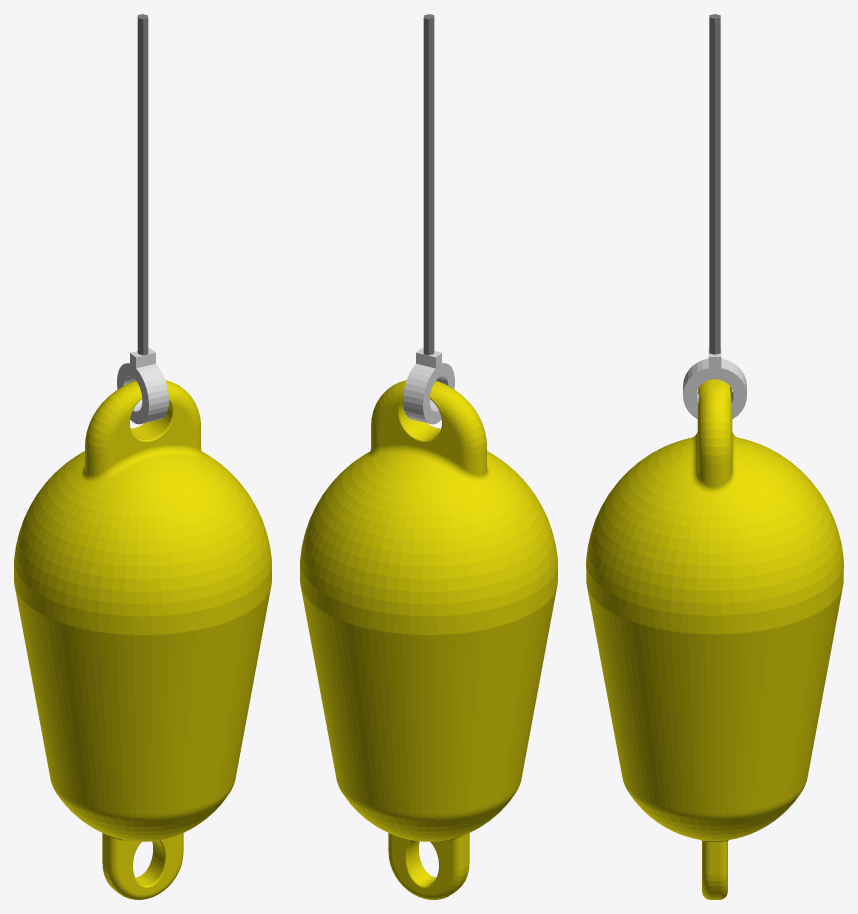
The picture shows the model from 3 angles, left to right: view 1: azimuth 30°, elevation 25°; view 2: azimuth 150°, elevation 25°; view 3: azimuth 270°, elevation 25°; orthographic projection.
Parts seen in each view (by area): view 1: ArmutSon; view 2: ArmutSon; view 3: ArmutSon.
Part boxes in pixels (x1,y1,x2,y2): ArmutSon: [14, 14, 271, 899]; ArmutSon: [300, 14, 557, 899]; ArmutSon: [586, 14, 843, 899].
Bounding box in the file's own units: 3000 × 11295 × 2999.
